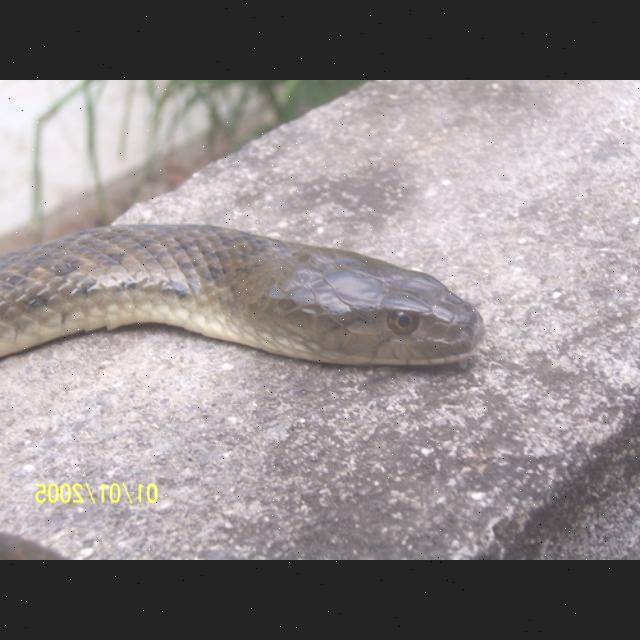snake: (1, 220, 493, 388)
